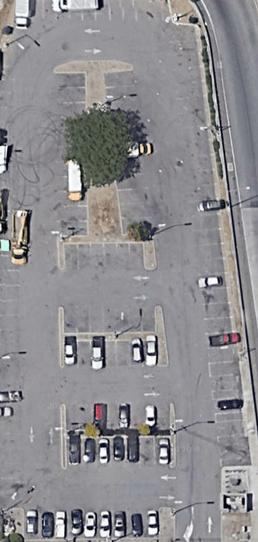parkingspot: (167, 25, 238, 366), (103, 69, 153, 236), (55, 71, 89, 237), (0, 269, 25, 482), (23, 507, 161, 541), (13, 0, 173, 28), (64, 400, 172, 435), (65, 435, 172, 467), (63, 337, 159, 369), (62, 304, 157, 335), (63, 241, 146, 271), (207, 371, 244, 393), (215, 418, 246, 439), (210, 396, 244, 415), (217, 443, 247, 461)
